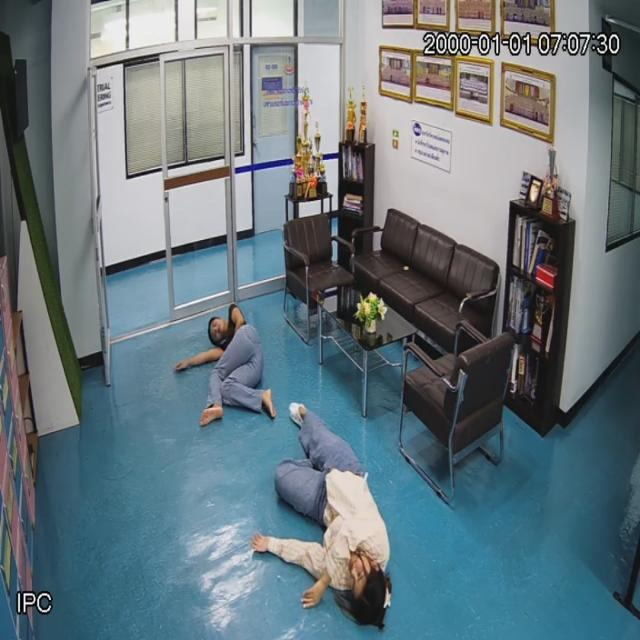fall: (267, 415, 390, 629), (176, 302, 271, 428)
